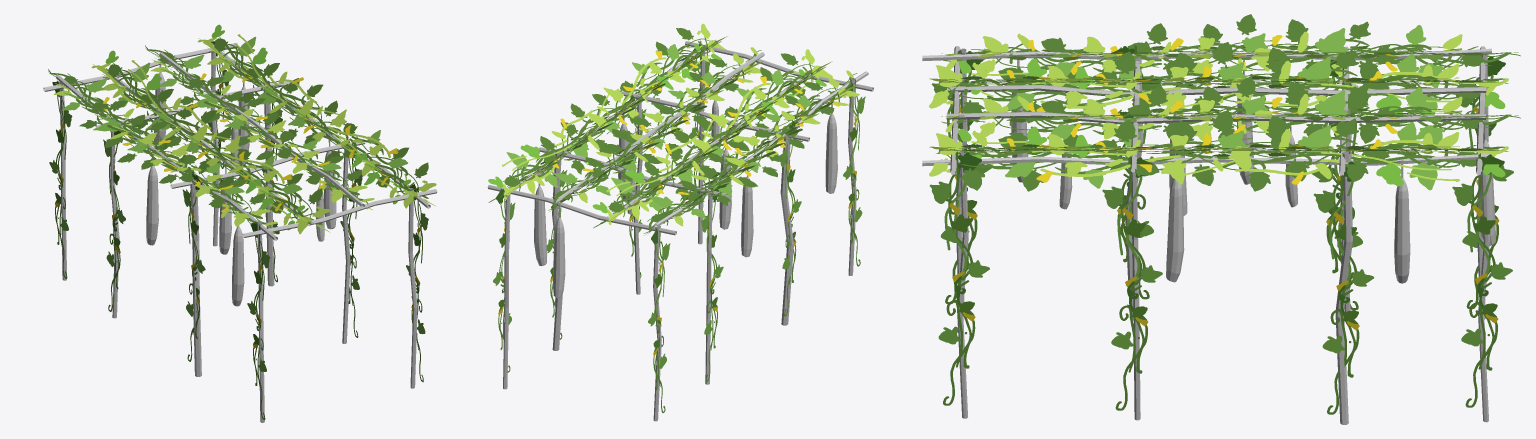
3 renders of one model, left to right at view 1: azimuth 30°, elevation 25°; view 2: azimuth 150°, elevation 25°; view 3: azimuth 270°, elevation 25°, orthographic. The views are drawn at different scales.
Parts seen in each view (by area): view 1: Plane.006, Cylinder.014, Cylinder; view 2: Plane.006, Cylinder.014, Cylinder; view 3: Plane.006, Cylinder.014, Cylinder.
Part boxes in pixels (x1,y1,x2,y2): Plane.006: (48,24,436,419); Cylinder.014: (43,42,437,422); Cylinder: (146,64,336,306); Plane.006: (488,23,865,412); Cylinder.014: (487,40,873,421); Cylinder: (534,100,837,298); Plane.006: (929,14,1520,414); Cylinder.014: (922,46,1491,424); Cylinder: (1011,60,1495,283).
Bounding box in the file's own units: 4279 × 4341 × 8101.
